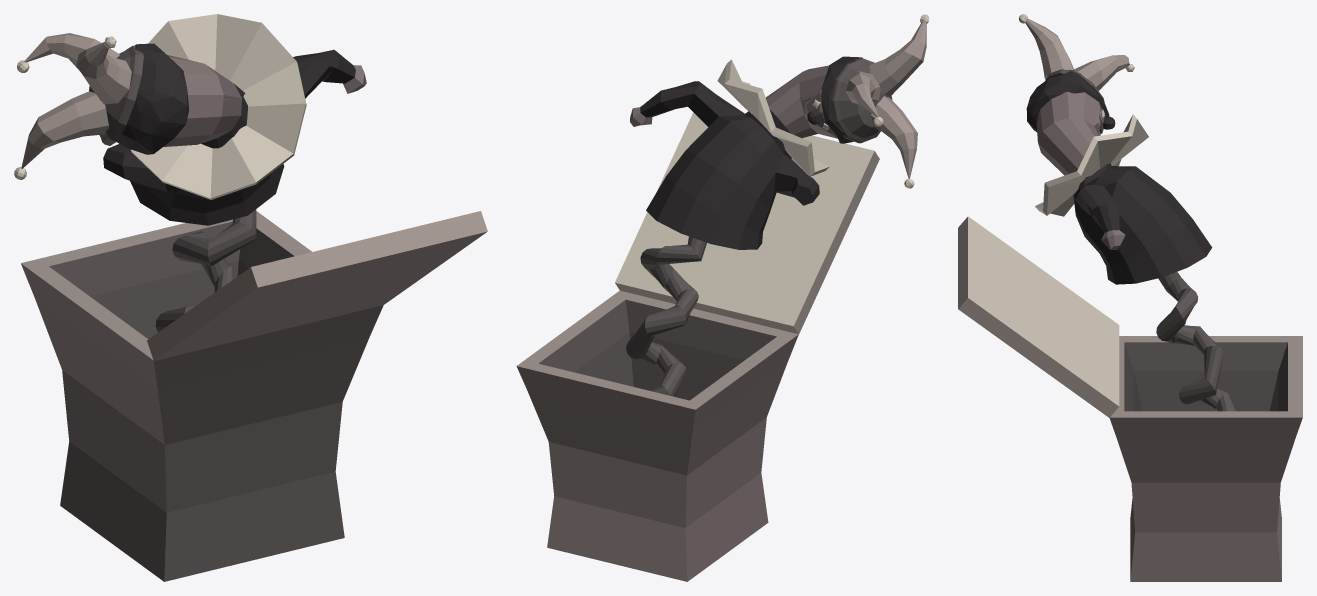
File: PagliaccioDark.fbx
3 views of the same model, side by side, from view 1: azimuth 30°, elevation 25°; view 2: azimuth 150°, elevation 25°; view 3: azimuth 270°, elevation 25° (orthographic). The views are drawn at different scales.
Visible parts, largest first — view 1: Cube.012; view 2: Cube.012; view 3: Cube.012.
Boxes of the visible parts, x1,y1,x2,y2 form: Cube.012: (14, 14, 487, 581); Cube.012: (516, 14, 929, 581); Cube.012: (958, 14, 1302, 581).
Bounding box in the file's own units: 79.56 × 128 × 87.51.
